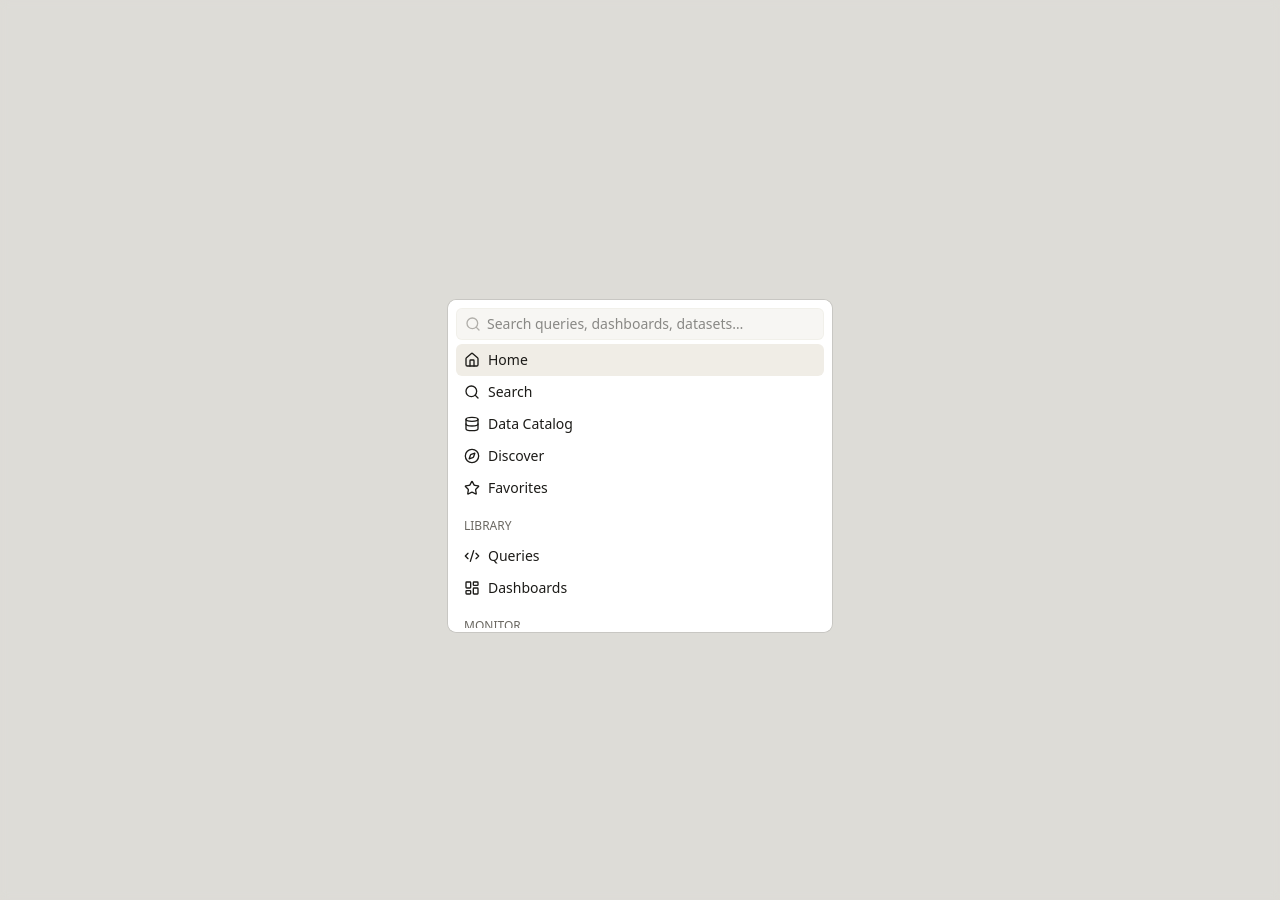
Test: CommandPalette › shows the empty state when neither nav commands nor results match
Type "nonexistentterm" into the dropdown with placeholder "Search queries, dashboards, datasets…" at (652, 324), box [481,314,823,334]
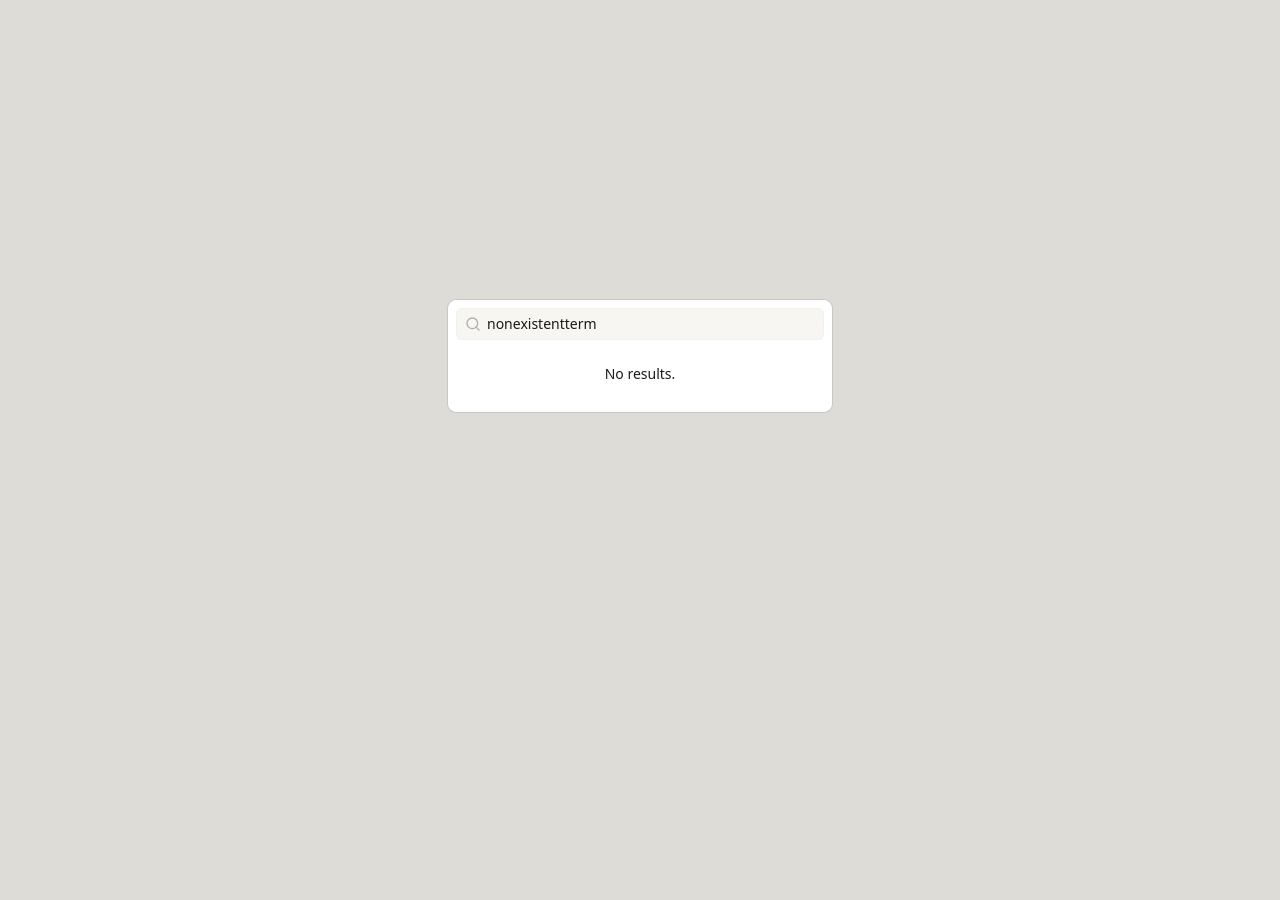
Now the text "No results." is shown, box [605,364,675,383]
Now the option "Home" is gone
